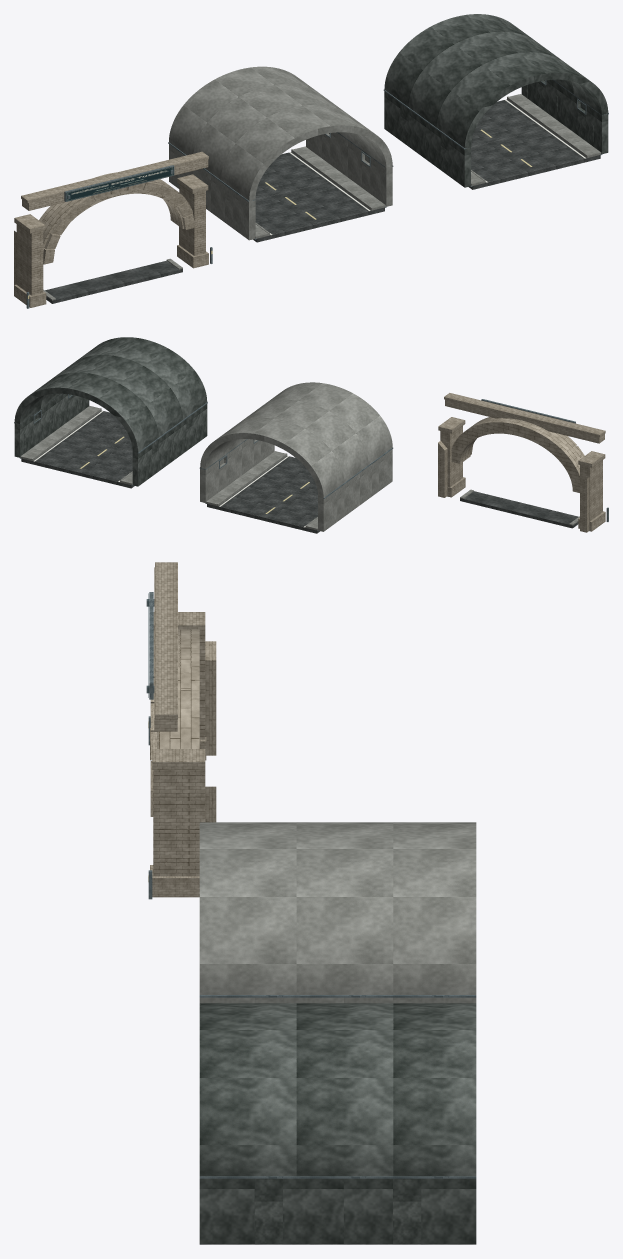
File: PROJECT_Z_RoadTunnel_Portal_Lining.glb
3 renders of one model, top to bottom at view 1: azimuth 30°, elevation 25°; view 2: azimuth 150°, elevation 25°; view 3: azimuth 270°, elevation 25°, orthographic. The views are drawn at different scales.
Visible parts, largest first — view 1: LINING_B_DAMP_10M_CrownArch_10M, LINING_A_DRY_10M_CrownArch_10M, LINING_B_DAMP_10M, LINING_A_DRY_10M_RoadSlab_10M, LINING_B_DAMP_10M_RoadSlab_10M, LINING_A_DRY_10M, PORTAL_Apron_Pavement, PORTAL_Pier_L, PORTAL_ParapetCrown, PORTAL_Face_StoneArch, PORTAL_Pier_R, LINING_B_DAMP_10M_RaisedWalk_RIGHT (+8 smaller); view 2: LINING_B_DAMP_10M_CrownArch_10M, LINING_A_DRY_10M_CrownArch_10M, LINING_B_DAMP_10M, LINING_A_DRY_10M, LINING_B_DAMP_10M_RoadSlab_10M, LINING_A_DRY_10M_RoadSlab_10M, PORTAL_Face_StoneArch, PORTAL_Apron_Pavement, PORTAL_ParapetCrown, PORTAL_FasciaBeam, PORTAL_Pier_L, LINING_B_DAMP_10M_RaisedWalk_RIGHT (+8 smaller); view 3: LINING_B_DAMP_10M_CrownArch_10M, LINING_A_DRY_10M_CrownArch_10M, LINING_B_DAMP_10M, PORTAL_Pier_R, PORTAL_ParapetCrown, PORTAL_Face_StoneArch, LINING_A_DRY_10M, PORTAL_ReturnWing_L, PORTAL_PierCap_R, PORTAL_PierBase_R.
Part boxes in pixels (x1,y1,x2,y2): LINING_B_DAMP_10M_CrownArch_10M: [384, 14, 608, 148]; LINING_A_DRY_10M_CrownArch_10M: [169, 66, 392, 200]; LINING_B_DAMP_10M: [384, 80, 608, 187]; LINING_A_DRY_10M_RoadSlab_10M: [253, 152, 384, 242]; LINING_B_DAMP_10M_RoadSlab_10M: [469, 99, 600, 189]; LINING_A_DRY_10M: [169, 132, 392, 240]; PORTAL_Apron_Pavement: [45, 260, 182, 303]; PORTAL_Pier_L: [16, 224, 43, 295]; PORTAL_ParapetCrown: [21, 151, 208, 203]; PORTAL_Face_StoneArch: [39, 172, 192, 251]; PORTAL_Pier_R: [179, 184, 205, 255]; LINING_B_DAMP_10M_RaisedWalk_RIGHT: [509, 94, 601, 157]; LINING_B_DAMP_10M_CrownArch_10M: [14, 337, 207, 452]; LINING_A_DRY_10M_CrownArch_10M: [200, 382, 392, 497]; LINING_B_DAMP_10M: [14, 393, 207, 486]; LINING_A_DRY_10M: [200, 439, 392, 531]; LINING_B_DAMP_10M_RoadSlab_10M: [21, 410, 134, 488]; LINING_A_DRY_10M_RoadSlab_10M: [207, 456, 319, 533]; PORTAL_Face_StoneArch: [451, 417, 583, 492]; PORTAL_Apron_Pavement: [460, 491, 578, 528]; PORTAL_ParapetCrown: [444, 393, 605, 437]; PORTAL_FasciaBeam: [445, 399, 604, 443]; PORTAL_Pier_L: [580, 460, 602, 521]; LINING_B_DAMP_10M_RaisedWalk_RIGHT: [20, 406, 99, 460]; LINING_B_DAMP_10M_CrownArch_10M: [199, 1003, 476, 1176]; LINING_A_DRY_10M_CrownArch_10M: [199, 822, 476, 994]; LINING_B_DAMP_10M: [199, 1178, 476, 1243]; PORTAL_Pier_R: [153, 770, 205, 876]; PORTAL_ParapetCrown: [155, 562, 177, 719]; PORTAL_Face_StoneArch: [158, 629, 199, 748]; LINING_A_DRY_10M: [199, 997, 476, 1003]; PORTAL_ReturnWing_L: [205, 641, 216, 755]; PORTAL_PierCap_R: [152, 749, 205, 769]; PORTAL_PierBase_R: [150, 865, 199, 897].
Size of the model in its own units: 42.86 by 7.63 by 11.92.
10 materials, 7 textured.
